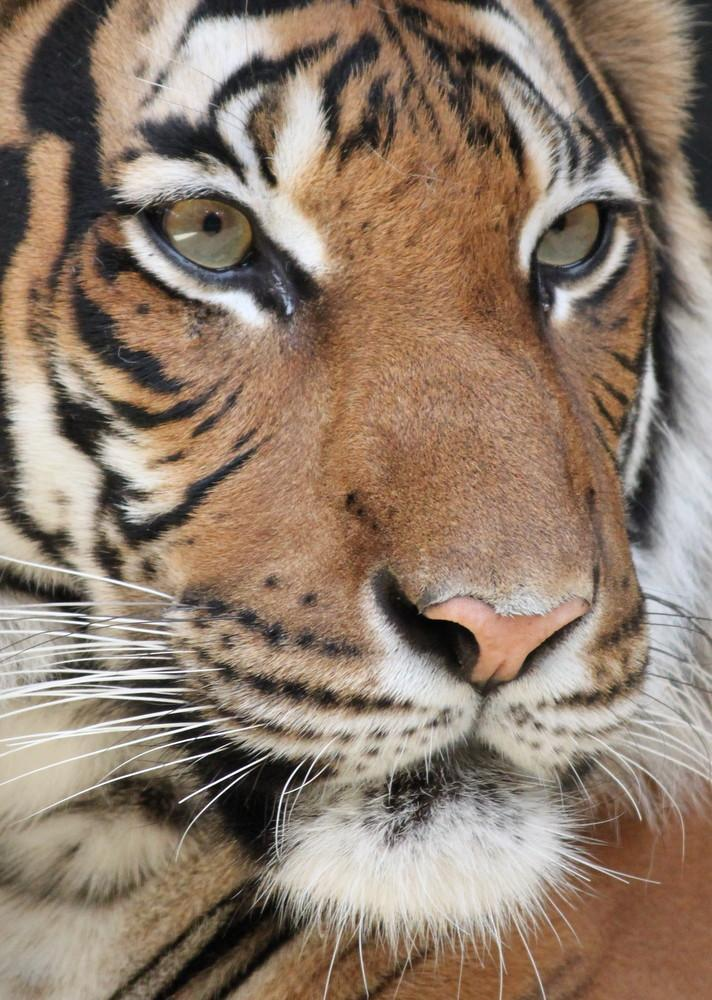tiger: (2, 1, 710, 999)
